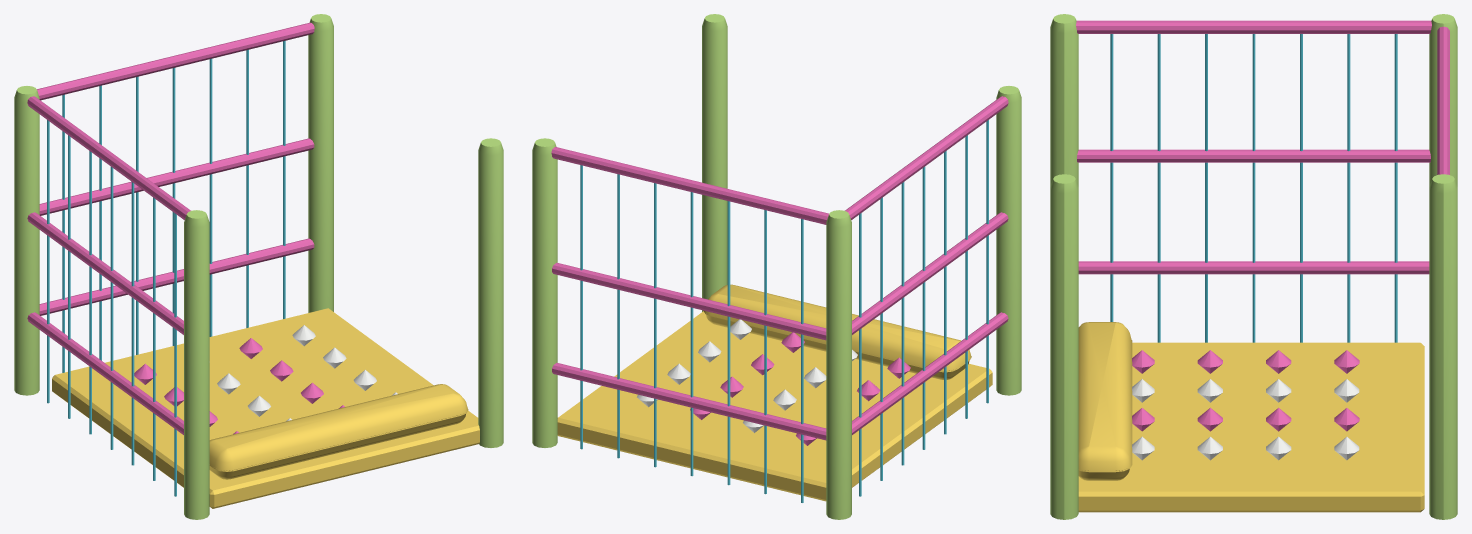
The model's file is laser-tag-arena-and-activity-centre-soft-play-frame-co-0e5623db__34505.glb.
The picture shows the model from 3 angles, left to right: view 1: azimuth 30°, elevation 25°; view 2: azimuth 150°, elevation 25°; view 3: azimuth 270°, elevation 25°; orthographic projection. The views are drawn at different scales.
Visible parts, largest first — view 1: soft-play-frame-corner; view 2: soft-play-frame-corner; view 3: soft-play-frame-corner.
Part boxes in pixels (left/top/right/bottom): soft-play-frame-corner: left=14, top=14, right=503, bottom=519; soft-play-frame-corner: left=532, top=14, right=1021, bottom=519; soft-play-frame-corner: left=1050, top=14, right=1457, bottom=519.
Size of the model in its own units: 2.15 by 1.95 by 2.15.
